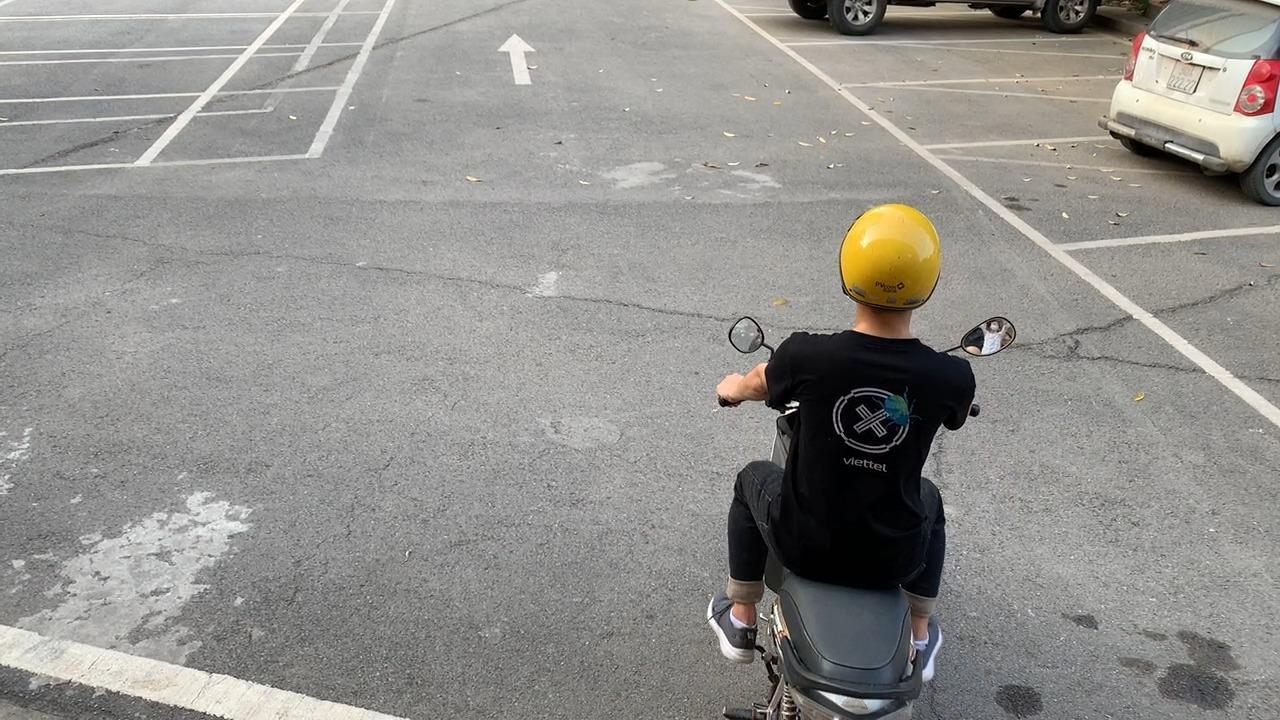helmet: (839, 204, 944, 312)
motorcyclist: (704, 201, 1016, 720)
